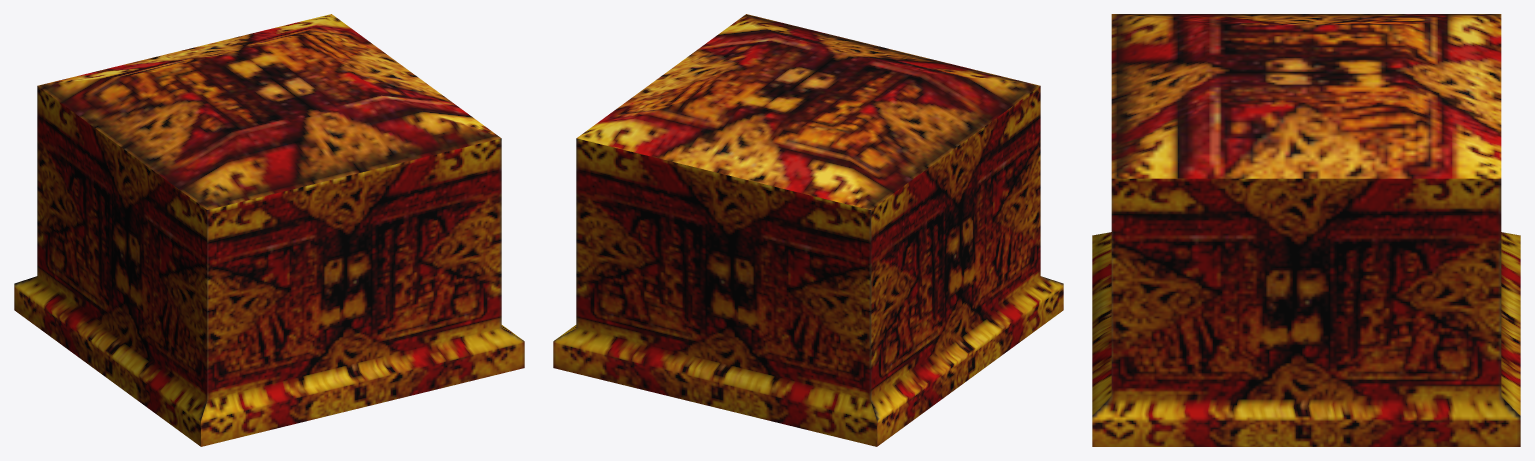
Rendered from IPItem02.obj.
3 renders of one model, left to right at view 1: azimuth 30°, elevation 25°; view 2: azimuth 150°, elevation 25°; view 3: azimuth 270°, elevation 25°, orthographic. The views are drawn at different scales.
Parts seen in each view (by area): view 1: 0; view 2: 0; view 3: 0.
Boxes of the visible parts, left/top/right/bottom form: 0: left=14, top=14, right=524, bottom=446; 0: left=553, top=14, right=1063, bottom=446; 0: left=1092, top=14, right=1520, bottom=446.
Bounding box in the file's own units: 10.03 × 7.48 × 10.03.
